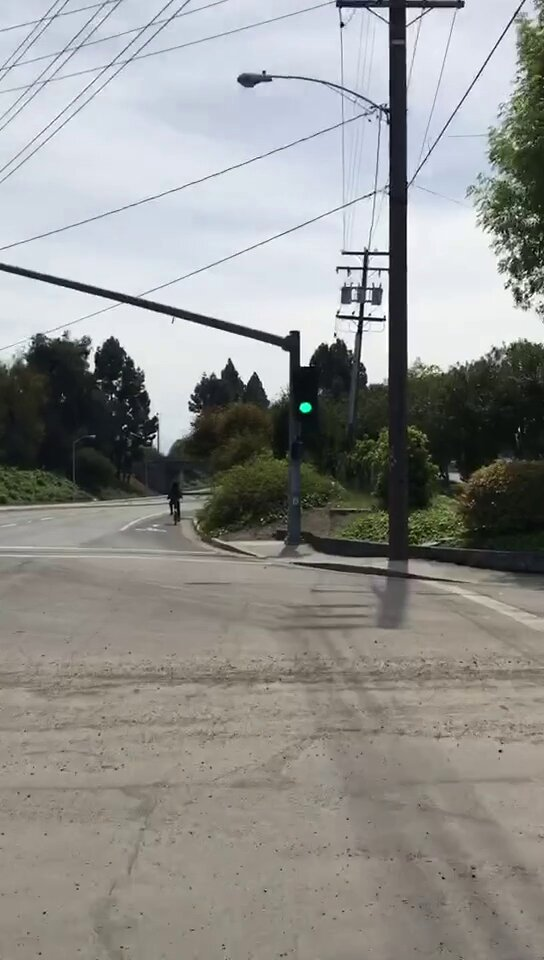green_light: (294, 367, 317, 419)
